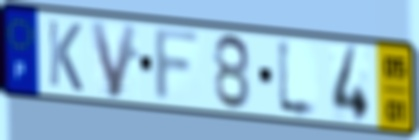4: (329, 43, 372, 126)
8: (211, 32, 253, 113)
F: (152, 25, 204, 106)
K: (45, 17, 85, 95)
L: (275, 34, 321, 124)
V: (87, 19, 140, 101)
